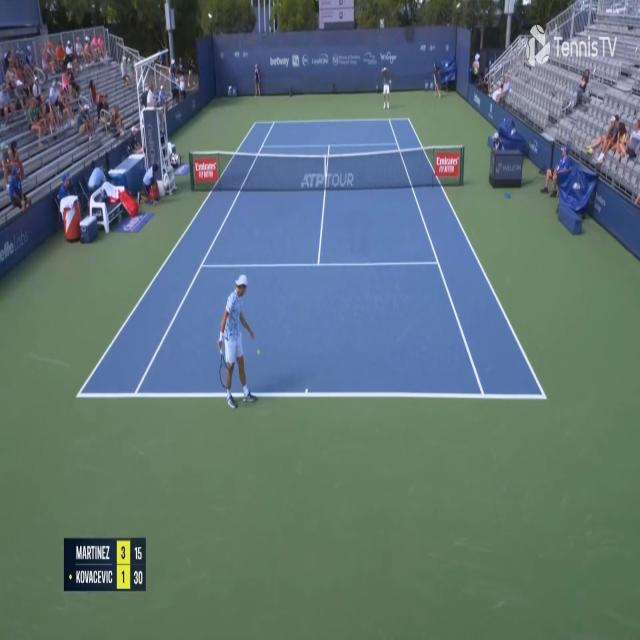tennis-player: (216, 270, 262, 416), (378, 64, 392, 110)
